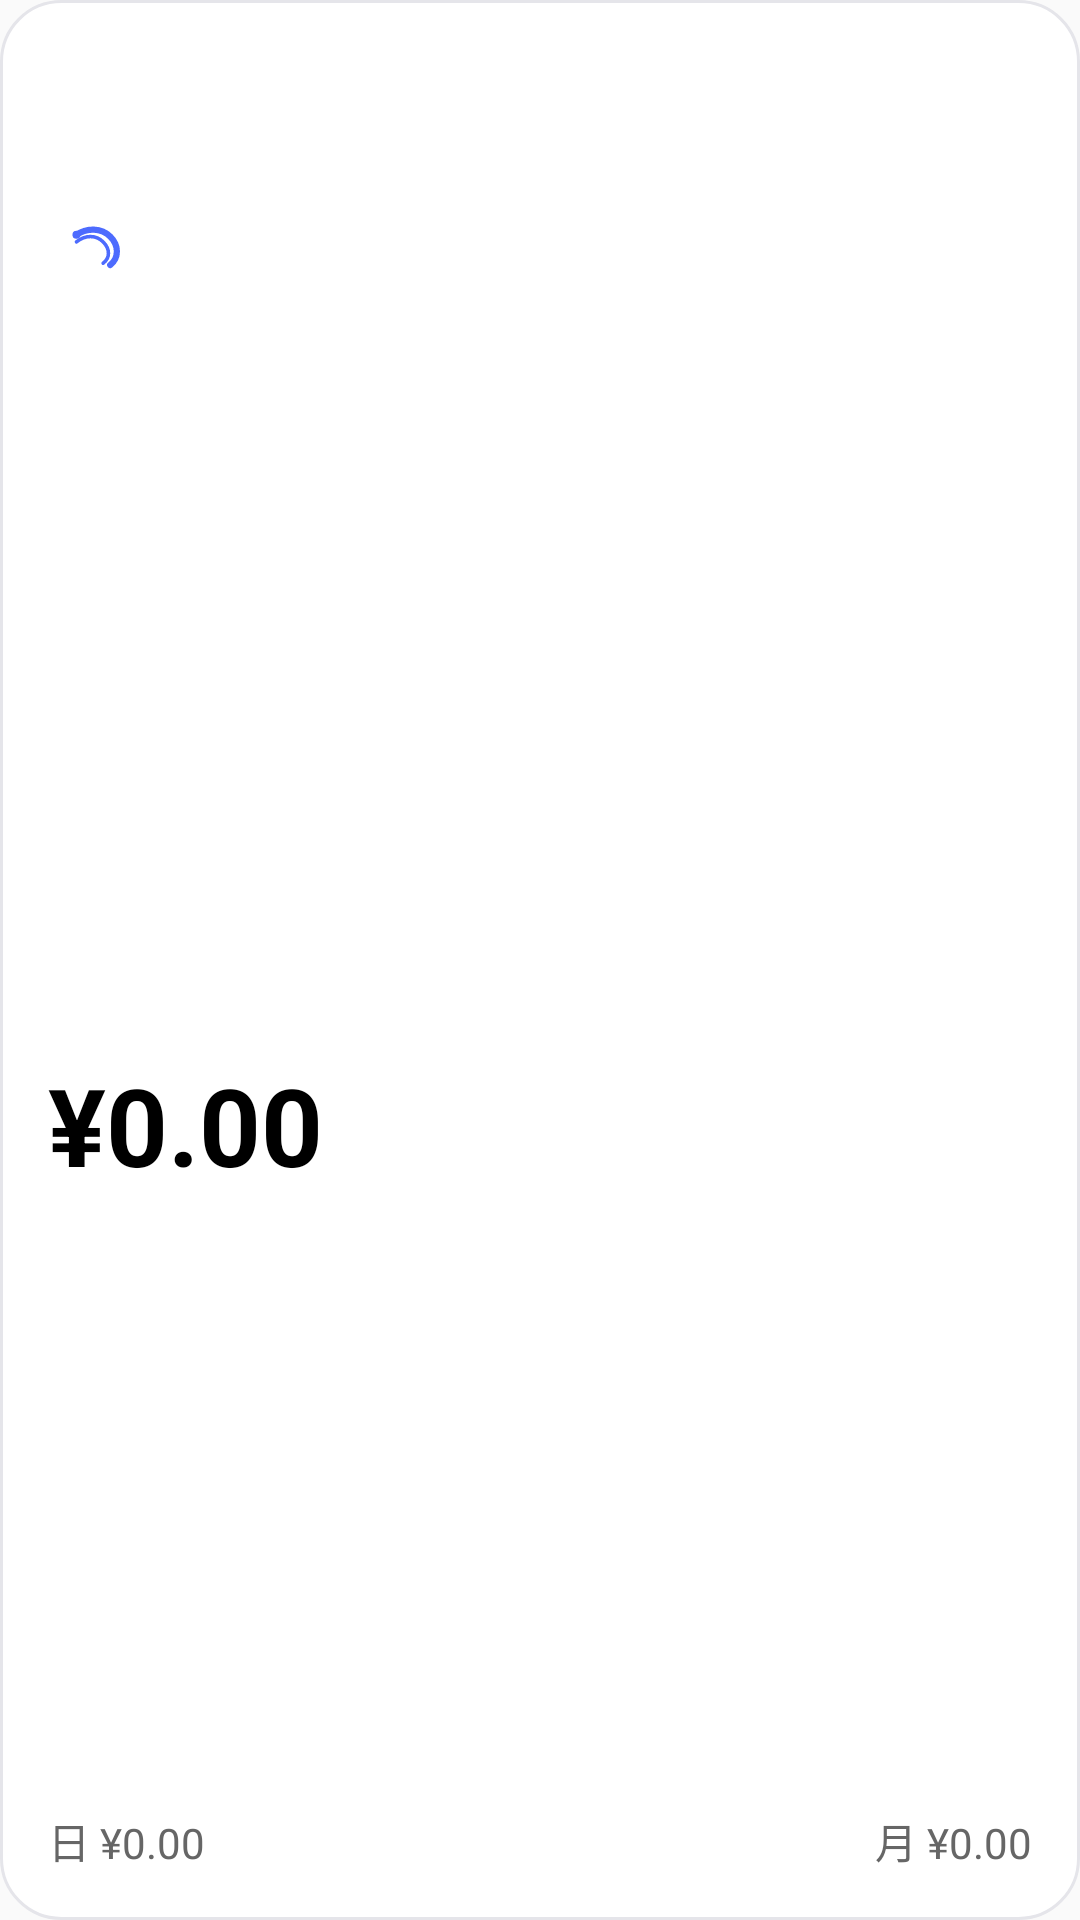

Screen size 1080w x 1920h. Icon name, then its box in pixels as (x1, y1, x2, y2):
seekflow signal: (72, 226, 120, 269)
